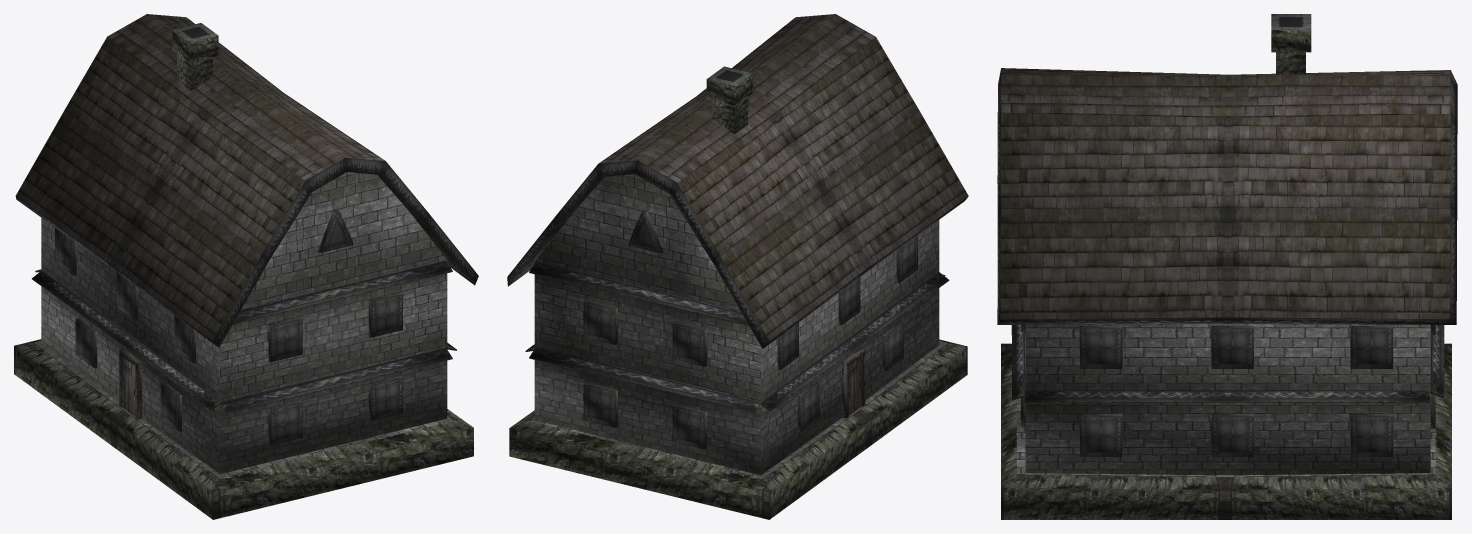
The model's file is house2-01.obj.
3 views of the same model, side by side, from view 1: azimuth 30°, elevation 25°; view 2: azimuth 150°, elevation 25°; view 3: azimuth 270°, elevation 25° (orthographic). The views are drawn at different scales.
Bounding box in the file's own units: 9.21 × 12.1 × 12.17.
1 material, 1 textured.
